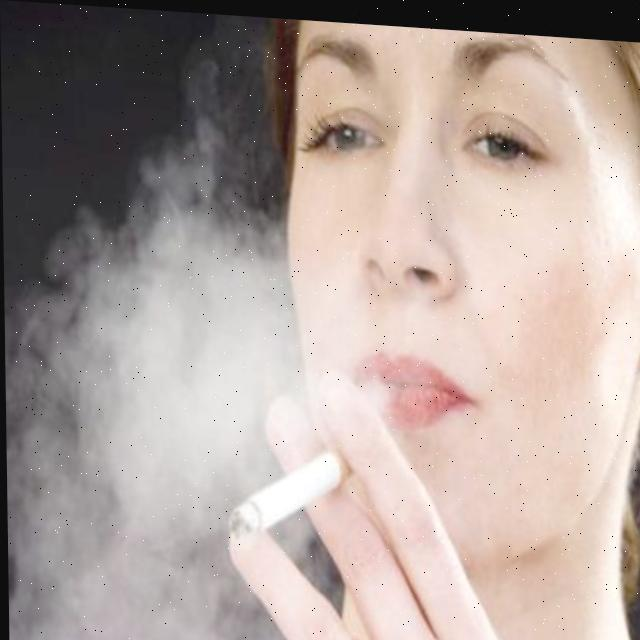cigarette: (226, 441, 349, 542)
